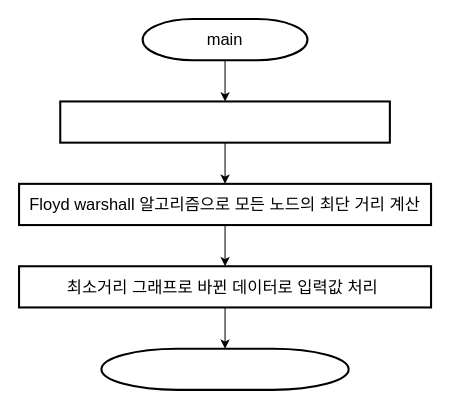
Image size: 449x408. Some labels were removed from this diagram. Here are the shapes that lost their labels. From the top down, the centre of each, then its label:
the point at 224,121: 체크포인트를 노드로 하는 그래프 만들기
the point at 224,368: return
